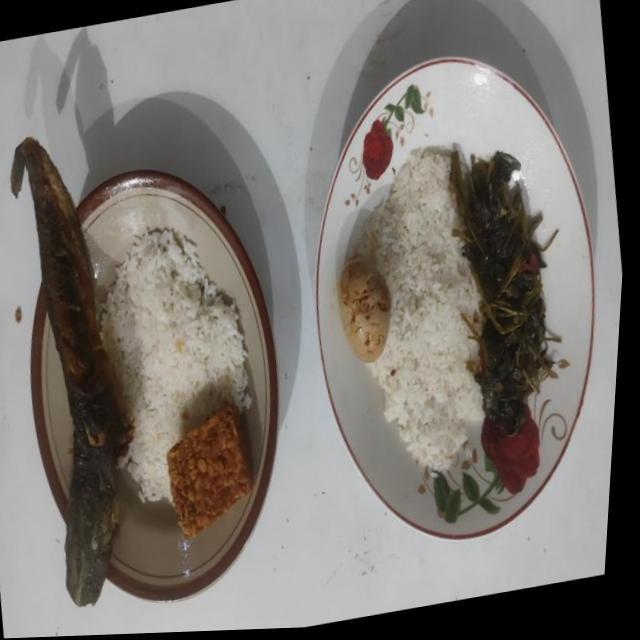nasi_putih: (101, 227, 252, 502), (358, 148, 482, 471)
tempe_goreng: (167, 404, 254, 538)
tumis_kangkung: (451, 151, 561, 435)
